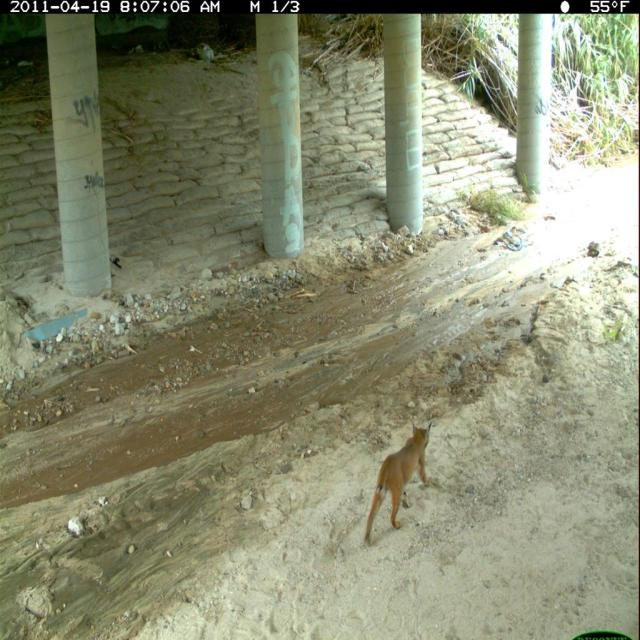bobcat: (365, 418, 437, 551)
